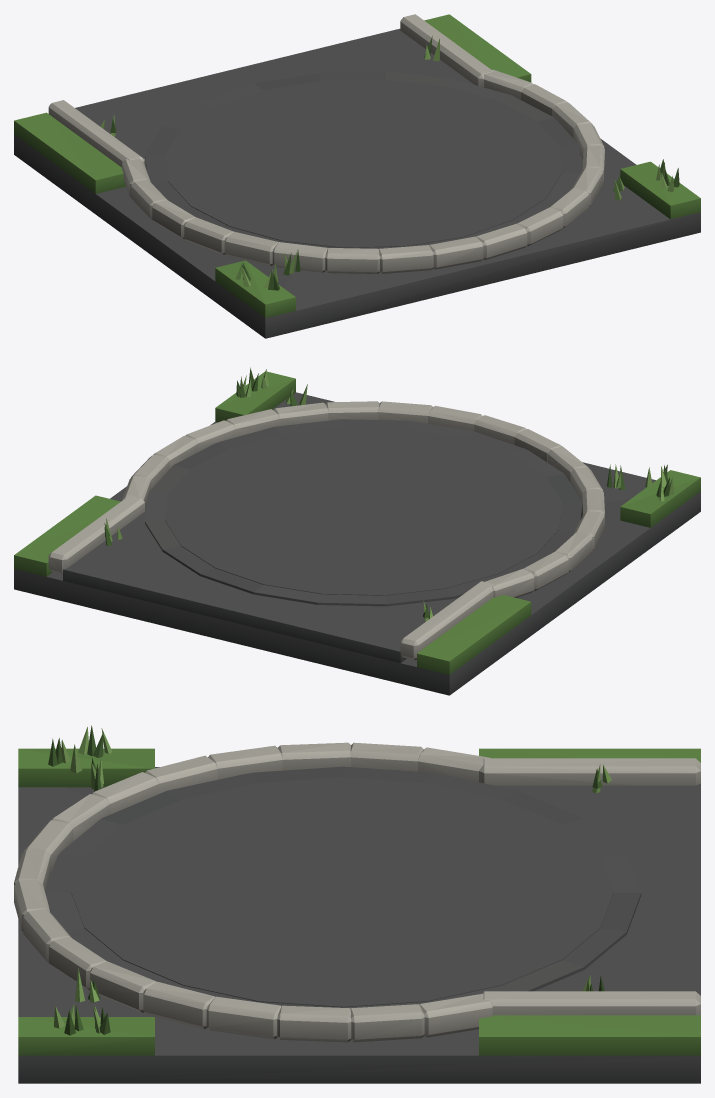
File: road-culdesac.glb
The picture shows the model from 3 angles, top to bottom: view 1: azimuth 30°, elevation 25°; view 2: azimuth 150°, elevation 25°; view 3: azimuth 270°, elevation 25°; orthographic projection. The views are drawn at different scales.
Parts seen in each view (by area): view 1: road_culdesac; view 2: road_culdesac; view 3: road_culdesac.
Part boxes in pixels (bbox=[...]): road_culdesac: bbox=[14, 14, 700, 338]; road_culdesac: bbox=[14, 367, 700, 695]; road_culdesac: bbox=[14, 725, 700, 1083].
Bounding box in the file's own units: 4 × 0.4752 × 4.03.
